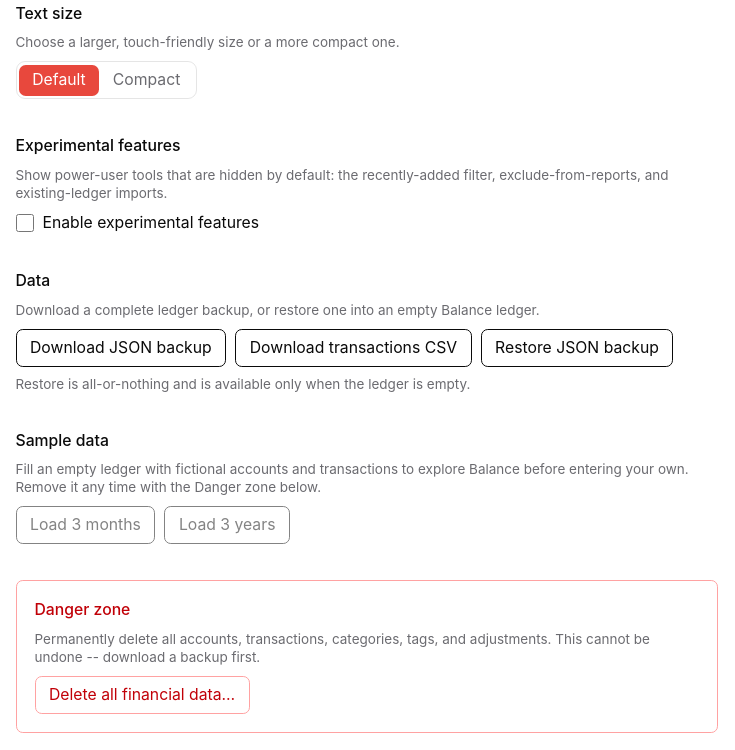
Household -- danger zone reset › requires typing the exact household name before deleting, then posts the confirm
(page scrolled)
# Open the danger flow.
Click the button "Delete all financial data…". click: (142, 695)
box: [34,676,250,714]
(page scrolled)
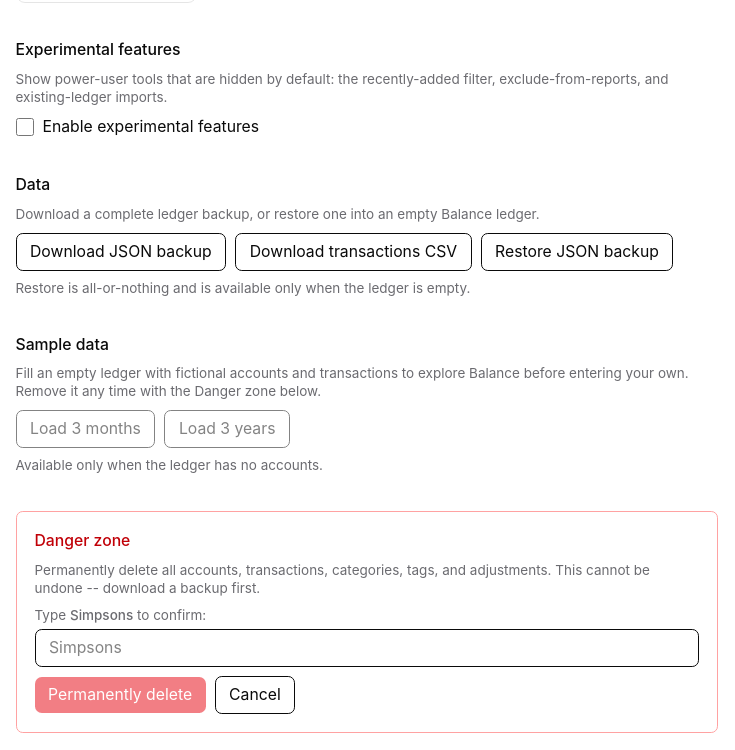
Check: the button "Permanently delete" is disabled, box [34,677,206,713]
Type "wrong" into the field with placeholder "Simpsons". click: (366, 648)
box: [34,629,698,667]
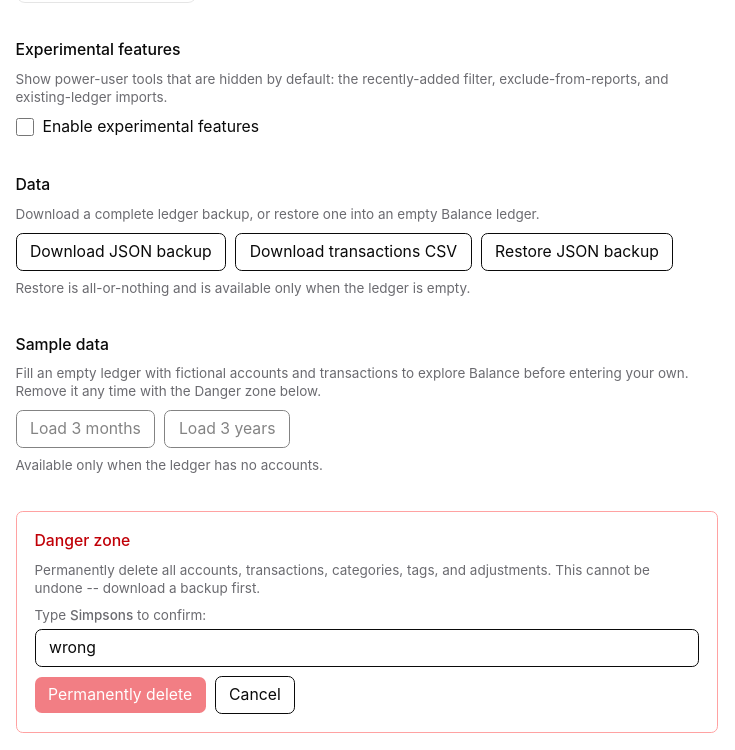
Check: the button "Permanently delete" is disabled, box [34,677,206,713]
Replace the text in the field with placeholder "Simpsons" with "Simpsons". click: (366, 648)
box: [34,629,698,667]
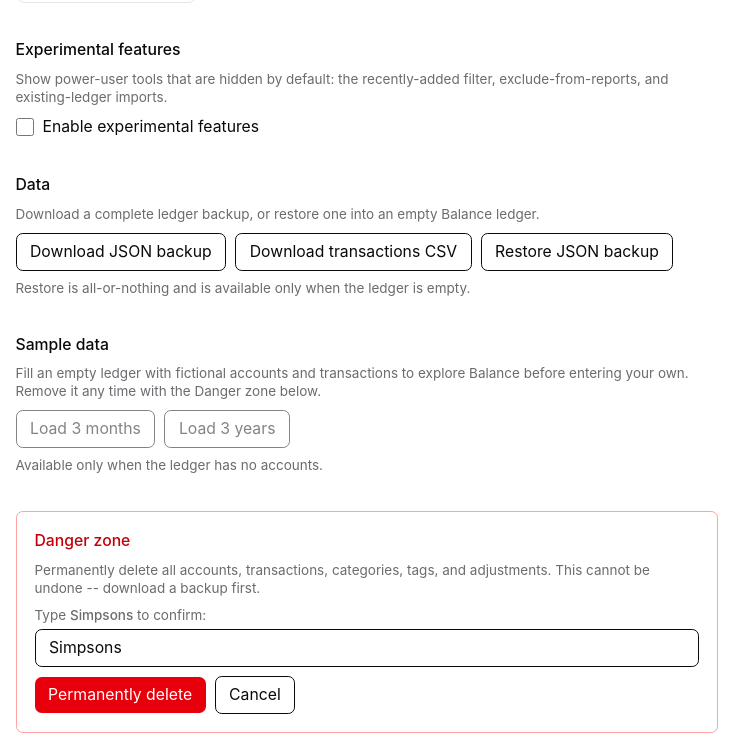
Check: the button "Permanently delete" is enabled
Click the button "Permanently delete". click: (120, 695)
box: [34,677,206,713]
(page scrolled)
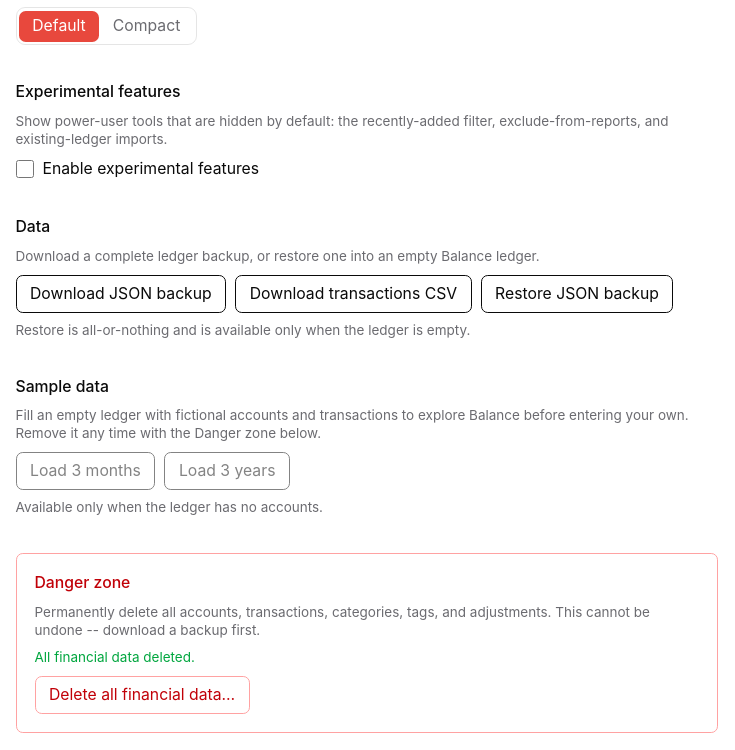
Check: the text "All financial data deleted." is shown, box [34,649,195,665]
